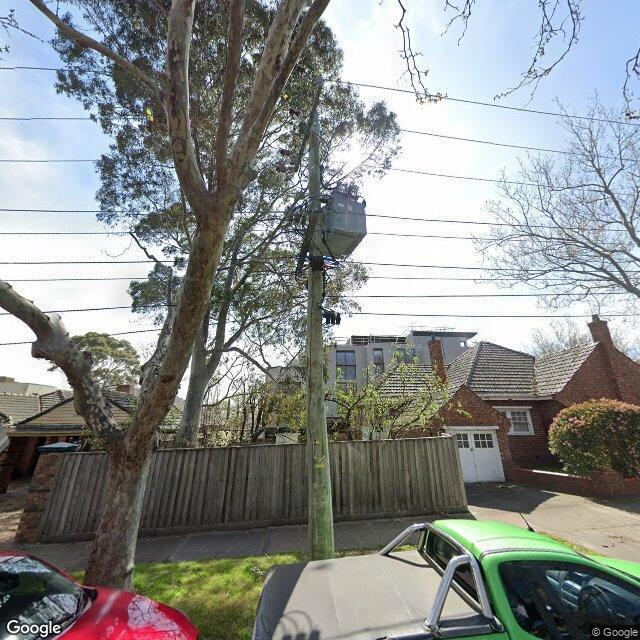HV-transmission: (276, 75, 324, 173)
crossarm: (295, 84, 322, 172), (296, 214, 318, 279)
timber-pole: (308, 112, 334, 560)
transformer: (321, 182, 366, 259)
